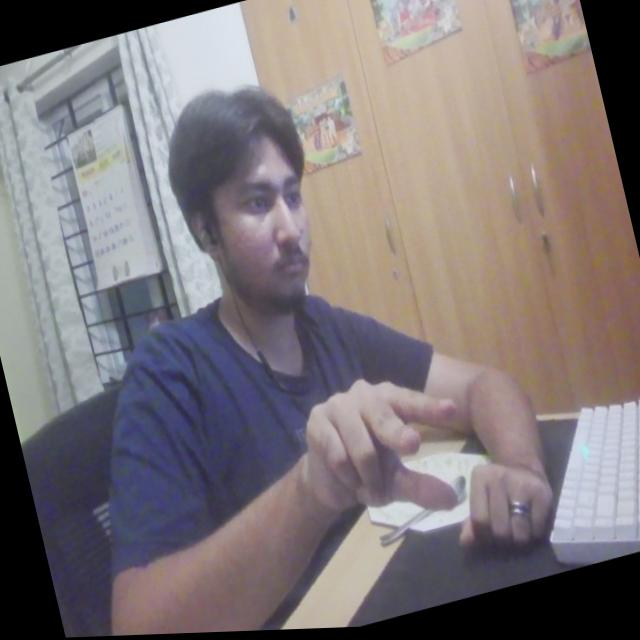no: (288, 350, 485, 559)
